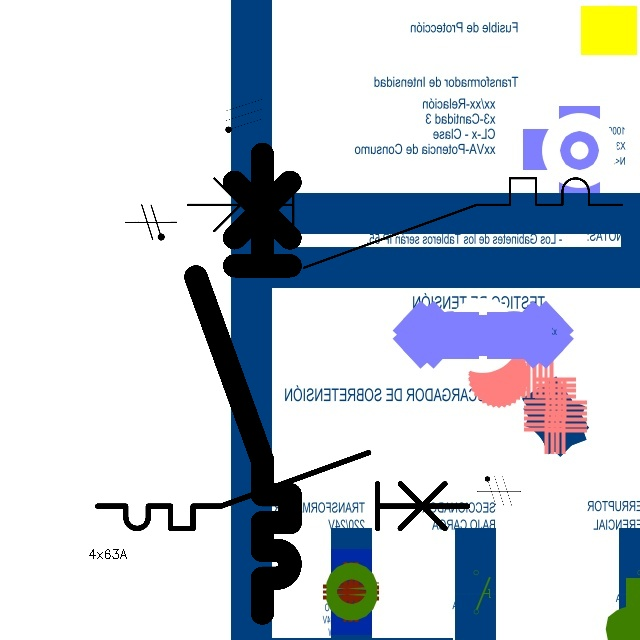interruptor_termomagnetico: (184, 142, 302, 625), (176, 167, 633, 278), (88, 443, 477, 538)
